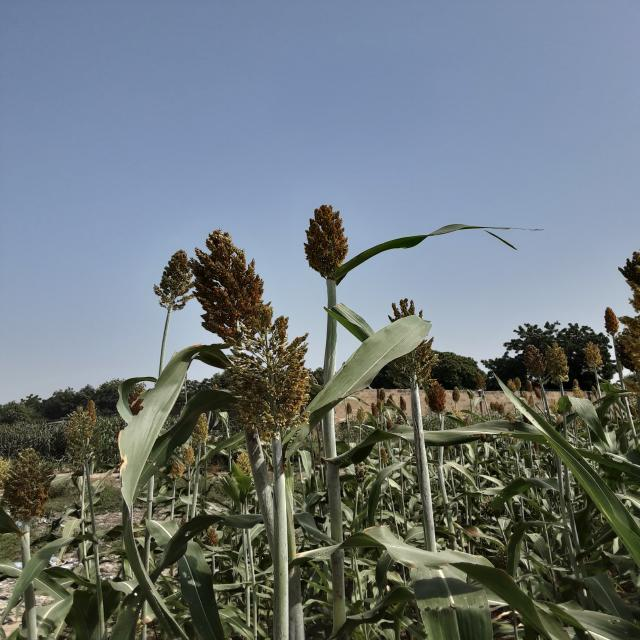UnripeSorghum: (210, 315, 329, 430), (273, 198, 394, 289), (178, 237, 292, 328), (0, 440, 72, 535)
